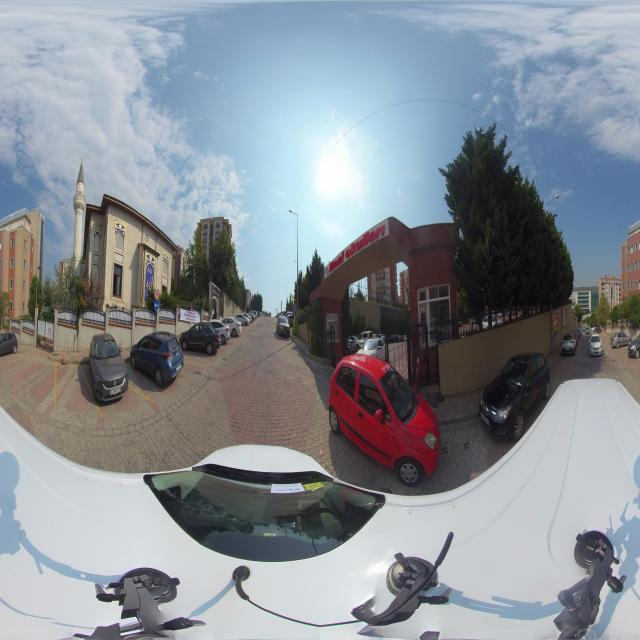SignStore: (323, 219, 385, 281)
